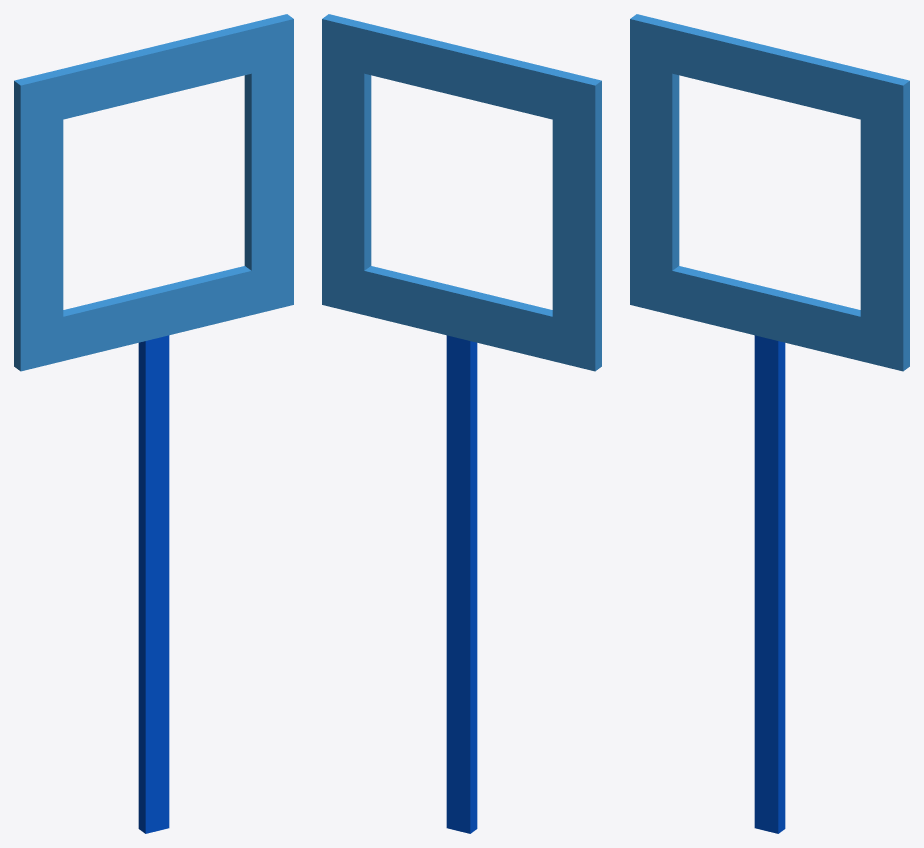
File: gate.dae
The picture shows the model from 3 angles, left to right: view 1: azimuth 30°, elevation 25°; view 2: azimuth 150°, elevation 25°; view 3: azimuth 330°, elevation 25°; orthographic projection.
Visible parts, largest first — view 1: Cube, blue_edge, grey_edge, green_edge, red_edge; view 2: Cube, grey_edge, blue_edge, green_edge, red_edge; view 3: Cube, blue_edge, grey_edge, red_edge, green_edge.
Boxes of the visible parts, x1=… form: Cube: x1=138, y1=335, x2=169, y2=833; blue_edge: x1=14, y1=14, x2=293, y2=129; grey_edge: x1=244, y1=14, x2=293, y2=310; green_edge: x1=14, y1=266, x2=283, y2=371; red_edge: x1=14, y1=71, x2=63, y2=370; Cube: x1=446, y1=335, x2=477, y2=833; grey_edge: x1=322, y1=14, x2=371, y2=314; blue_edge: x1=322, y1=14, x2=601, y2=129; green_edge: x1=322, y1=266, x2=601, y2=371; red_edge: x1=552, y1=71, x2=601, y2=370; Cube: x1=754, y1=335, x2=785, y2=833; blue_edge: x1=630, y1=14, x2=909, y2=129; grey_edge: x1=860, y1=70, x2=909, y2=370; red_edge: x1=630, y1=14, x2=679, y2=314; green_edge: x1=630, y1=266, x2=909, y2=371.
Bounding box in the file's own units: 0.58 × 0.025 × 1.58.
